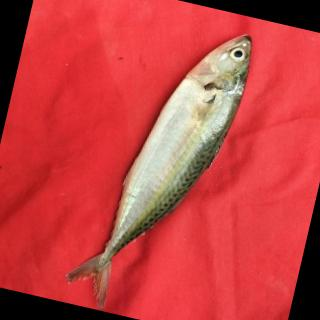Ikan: (55, 1, 266, 320)
